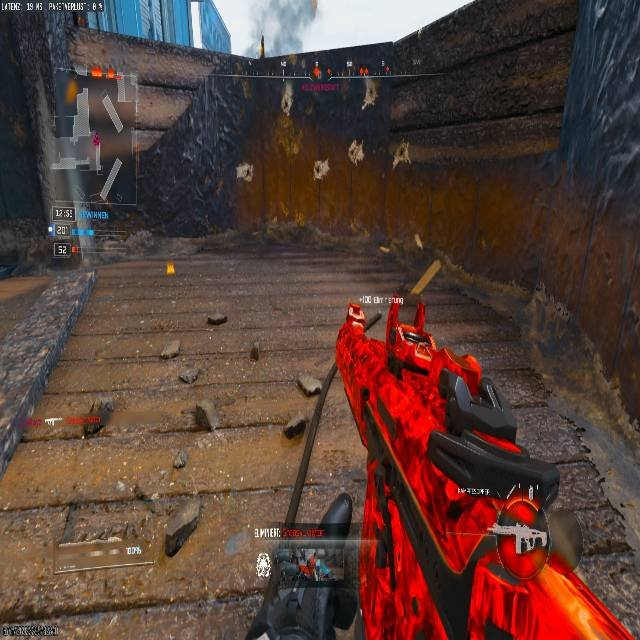head: (350, 312, 365, 332)
